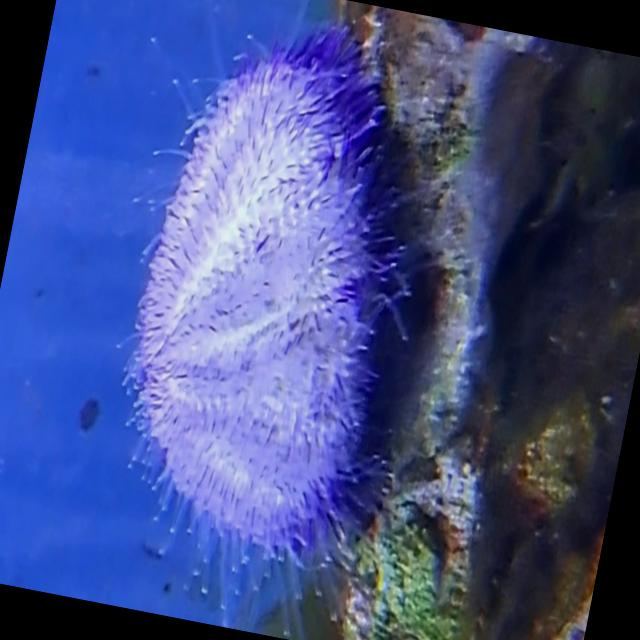Deniz Kestanesi: (49, 0, 474, 630)
